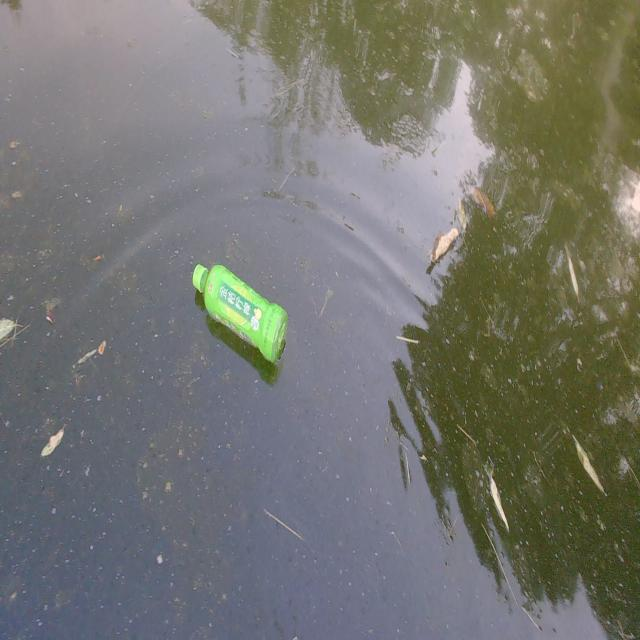Bottle: (189, 254, 291, 368)
